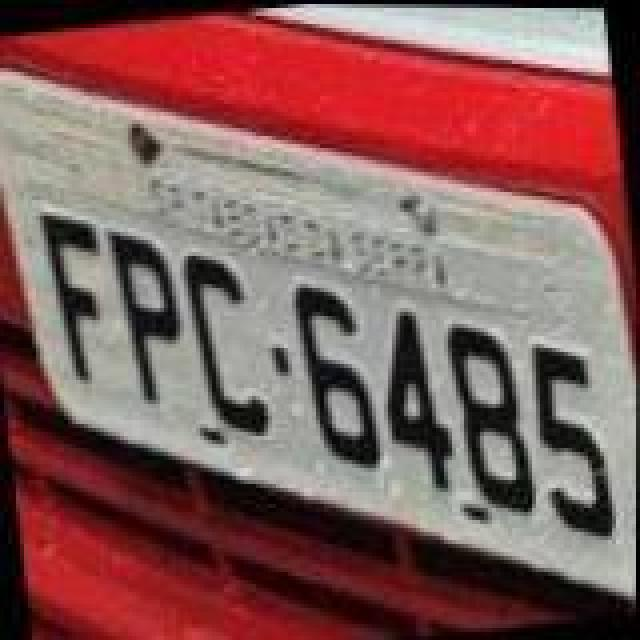4: (376, 300, 460, 492)
5: (528, 334, 620, 542)
6: (292, 272, 384, 472)
8: (446, 312, 542, 516)
C: (180, 244, 272, 440)
F: (40, 208, 116, 384)
P: (108, 222, 192, 406)
